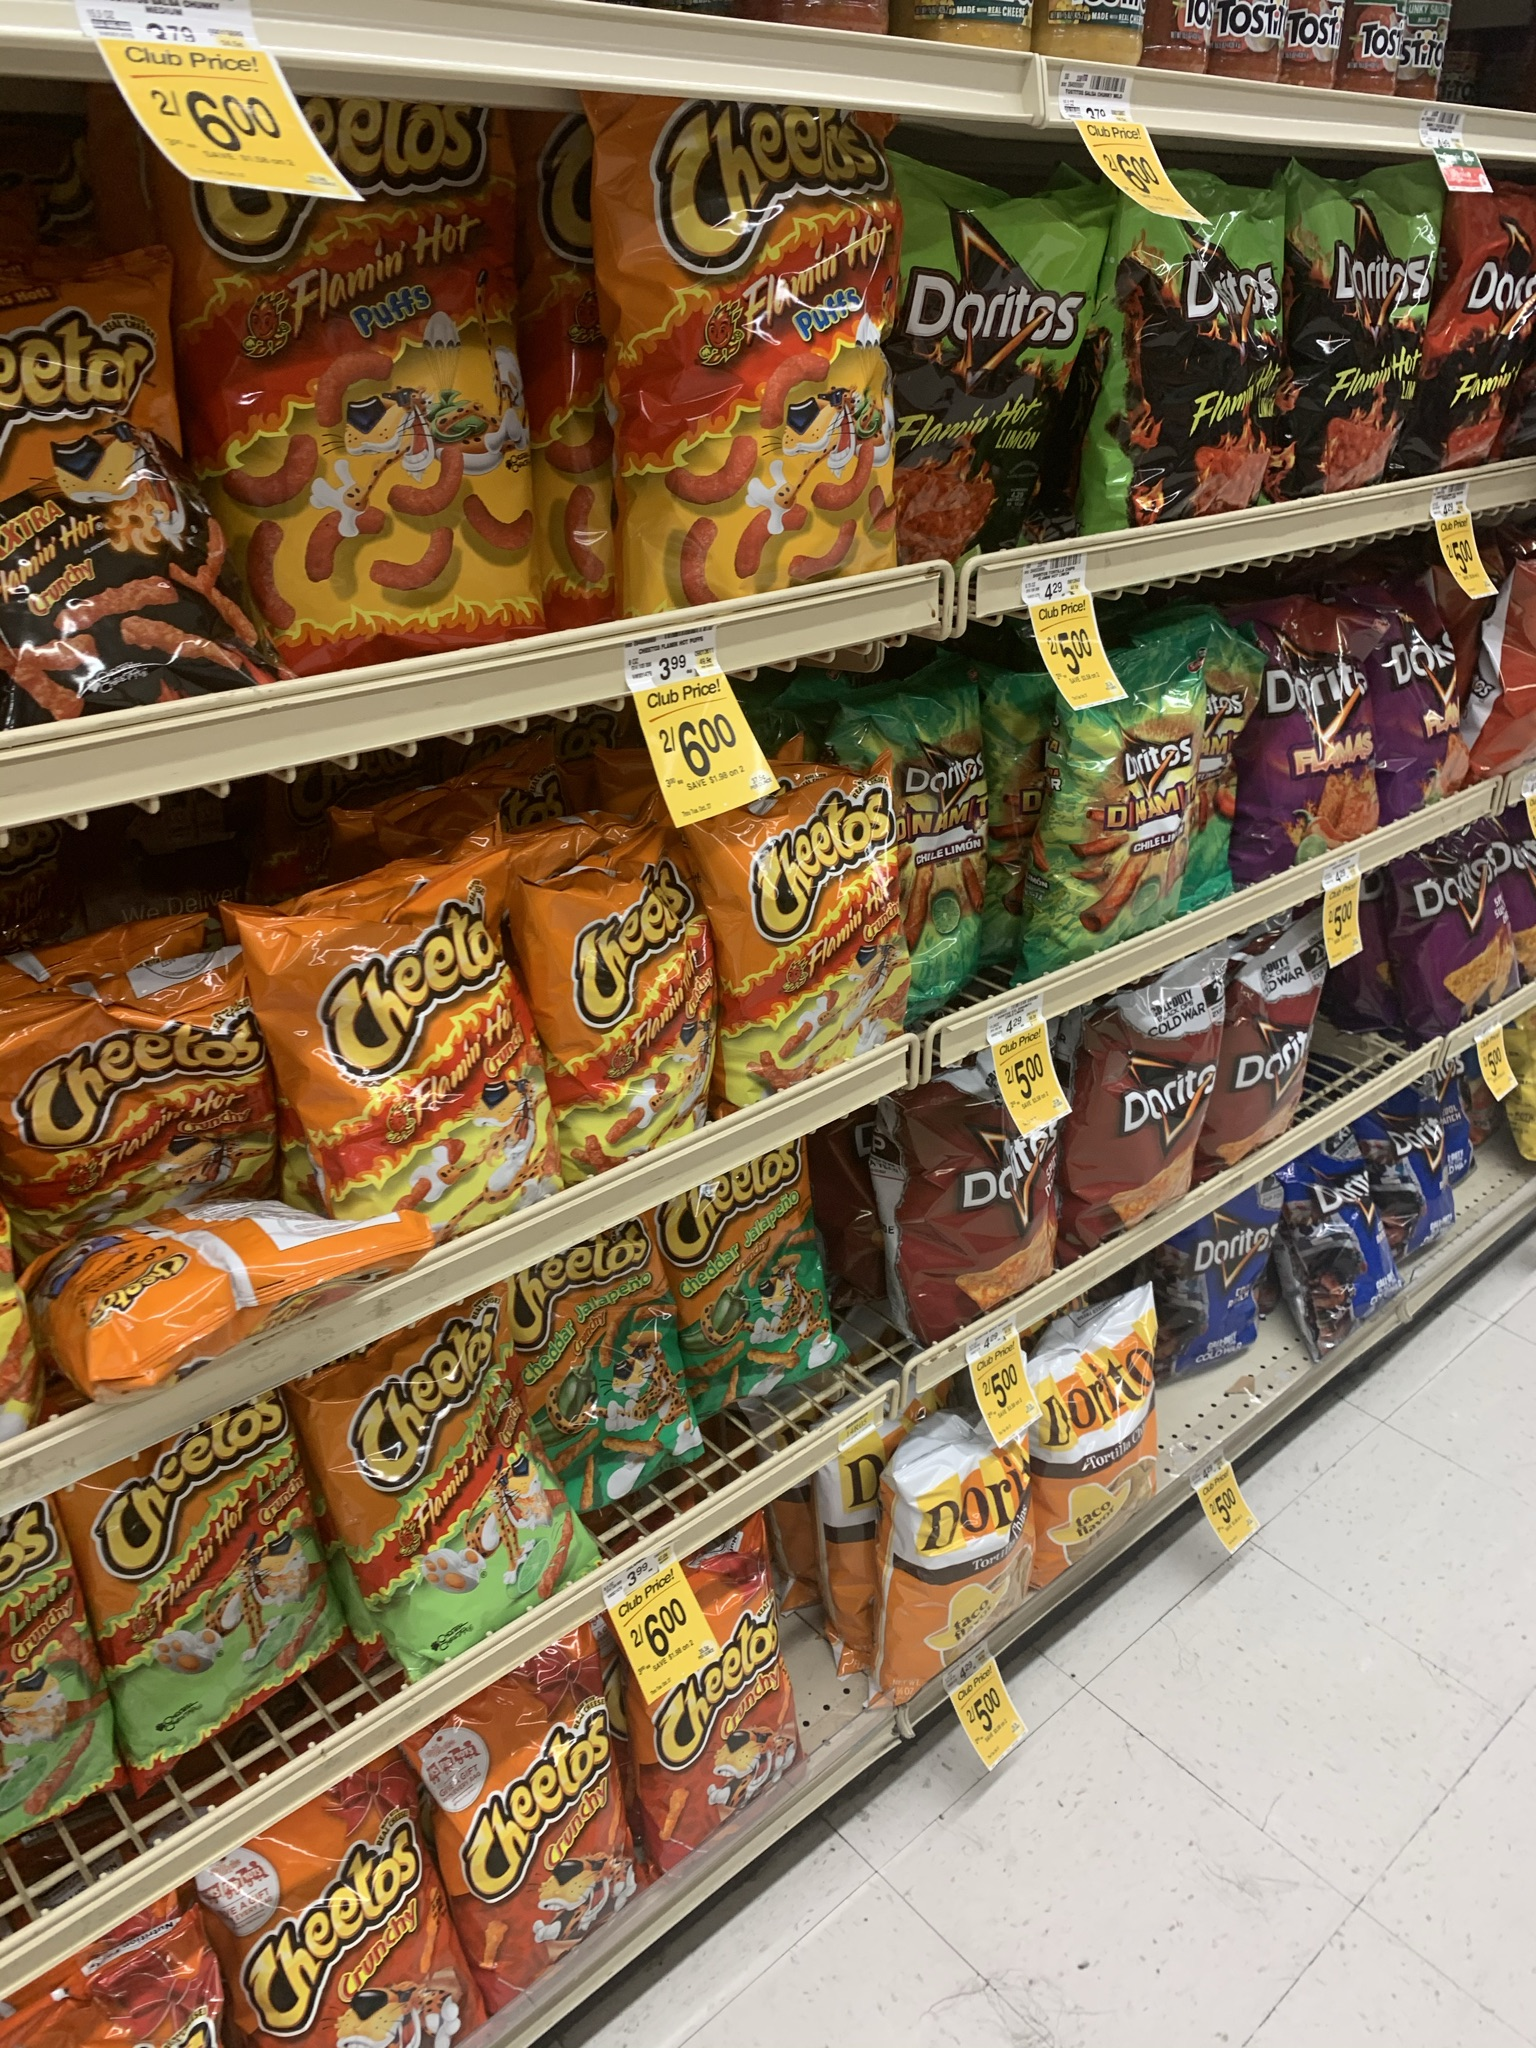chip: (173, 94, 541, 653), (605, 89, 905, 608), (223, 901, 574, 1238), (879, 144, 1071, 574), (315, 1335, 582, 1642), (678, 777, 931, 1098), (403, 1667, 626, 1992), (502, 826, 724, 1147), (611, 1546, 799, 1842), (1121, 176, 1275, 527), (237, 1842, 460, 2048), (1065, 661, 1200, 971), (891, 1408, 1018, 1716), (1046, 1280, 1155, 1609), (925, 1053, 1055, 1317), (1252, 589, 1384, 847), (1094, 984, 1221, 1219), (1386, 835, 1521, 1021), (1158, 1172, 1273, 1356), (1250, 935, 1325, 1132)
